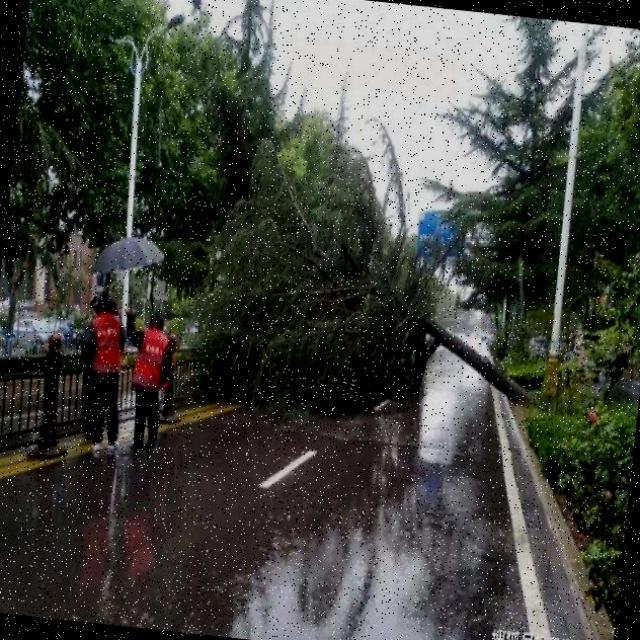fallen_object: (171, 97, 567, 445)
